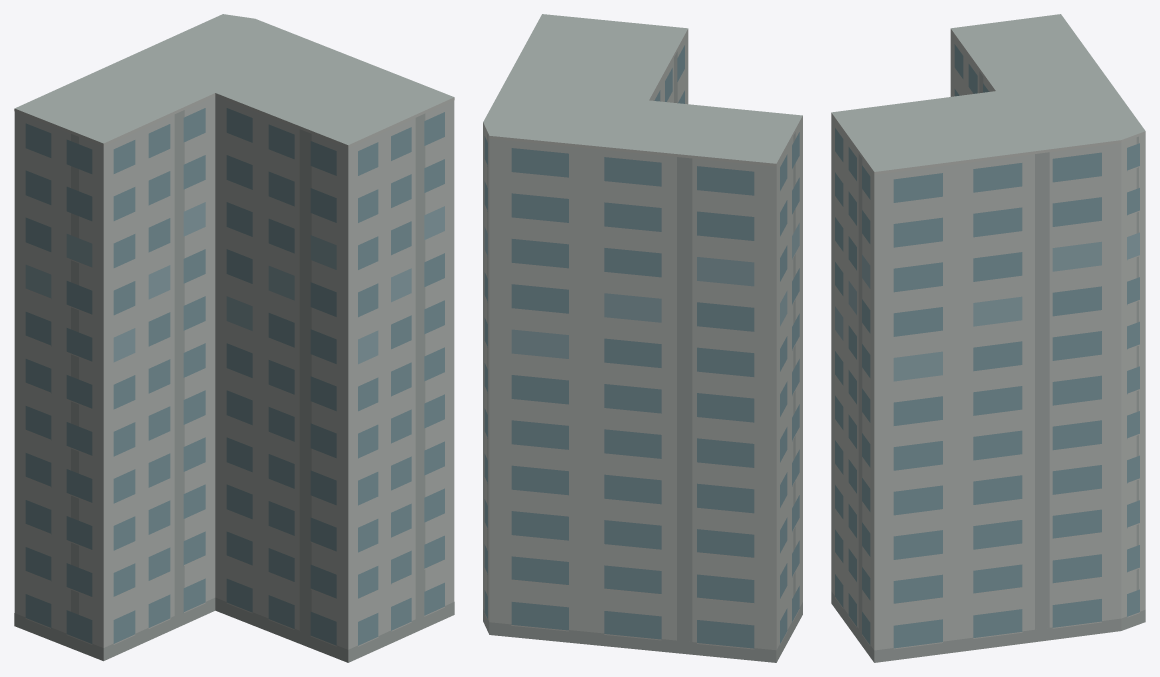
The model's file is residential-b5091de9-b74c-4b12-8f07-cc3251af9c69.glb.
3 renders of one model, left to right at view 1: azimuth 30°, elevation 25°; view 2: azimuth 150°, elevation 25°; view 3: azimuth 270°, elevation 25°, orthographic. The views are drawn at different scales.
Visible parts, largest first — view 1: residential-b5091de9-b74c-4b12-8f07-cc3251af9c69.tmp; view 2: residential-b5091de9-b74c-4b12-8f07-cc3251af9c69.tmp; view 3: residential-b5091de9-b74c-4b12-8f07-cc3251af9c69.tmp.
Part boxes in pixels (<box>): residential-b5091de9-b74c-4b12-8f07-cc3251af9c69.tmp: <box>14,14,454,662</box>; residential-b5091de9-b74c-4b12-8f07-cc3251af9c69.tmp: <box>483,14,802,662</box>; residential-b5091de9-b74c-4b12-8f07-cc3251af9c69.tmp: <box>831,14,1145,662</box>.
Bounding box in the file's own units: 29 × 42 × 24.39.
